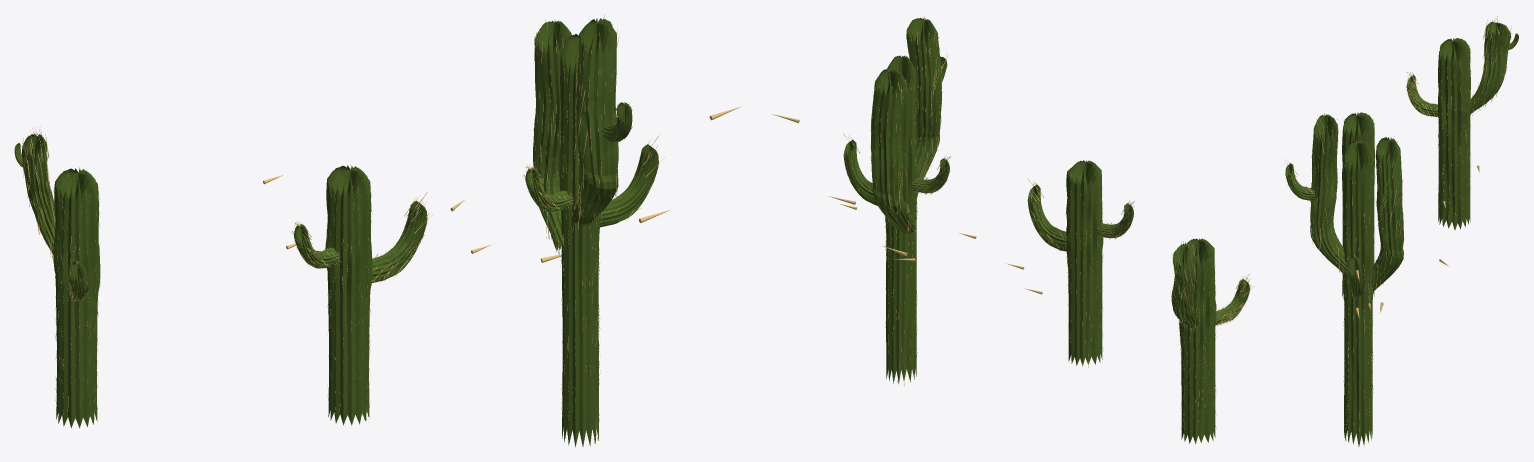
File: Cactusfinal.glb
3 views of the same model, side by side, from view 1: azimuth 30°, elevation 25°; view 2: azimuth 150°, elevation 25°; view 3: azimuth 270°, elevation 25° (orthographic). The views are drawn at different scales.
Parts seen in each view (by area): view 1: Cylinder.008, Cylinder.006, Cylinder, Cylinder.002, Cylinder.011, Cylinder.003, Cylinder.010, Cylinder.004, Cylinder.009, Cylinder.005, Cylinder.012; view 2: Cylinder.006, Cylinder.008, Cylinder, Cylinder.011, Cylinder.002, Cylinder.003, Cylinder.004, Cylinder.010, Cylinder.001, Cylinder.009, Cylinder.005; view 3: Cylinder.008, Cylinder, Cylinder.002, Cylinder.011, Cylinder.003, Cylinder.006, Cylinder.001, Cylinder.010, Cylinder.012.
Part boxes in pixels (x1,y1,x2,y2): Cylinder.008: (559, 33, 601, 447); Cylinder.006: (325, 165, 372, 425); Cylinder: (53, 168, 100, 428); Cylinder.002: (571, 18, 618, 224); Cylinder.011: (533, 20, 571, 250); Cylinder.003: (22, 133, 55, 254); Cylinder.010: (600, 144, 658, 227); Cylinder.004: (371, 201, 427, 282); Cylinder.009: (525, 167, 573, 211); Cylinder.005: (294, 224, 340, 268); Cylinder.012: (602, 102, 632, 141); Cylinder.006: (1066, 160, 1103, 365); Cylinder.008: (885, 55, 917, 383); Cylinder: (1179, 238, 1216, 443); Cylinder.011: (871, 68, 916, 234); Cylinder.002: (906, 18, 941, 198); Cylinder.003: (1171, 243, 1198, 329); Cylinder.004: (1027, 184, 1066, 251); Cylinder.010: (843, 139, 877, 205); Cylinder.001: (1215, 279, 1249, 324); Cylinder.009: (912, 158, 949, 193); Cylinder.005: (1097, 203, 1133, 237); Cylinder.008: (1343, 140, 1373, 446); Cylinder: (1438, 38, 1470, 230); Cylinder.002: (1310, 114, 1347, 275); Cylinder.011: (1372, 137, 1403, 292); Cylinder.003: (1470, 22, 1510, 113); Cylinder.006: (1342, 112, 1374, 299); Cylinder.001: (1406, 75, 1438, 116); Cylinder.010: (1348, 255, 1363, 298); Cylinder.012: (1285, 163, 1315, 200).
Size of the model in its own units: 32.92 by 21.79 by 14.25.
